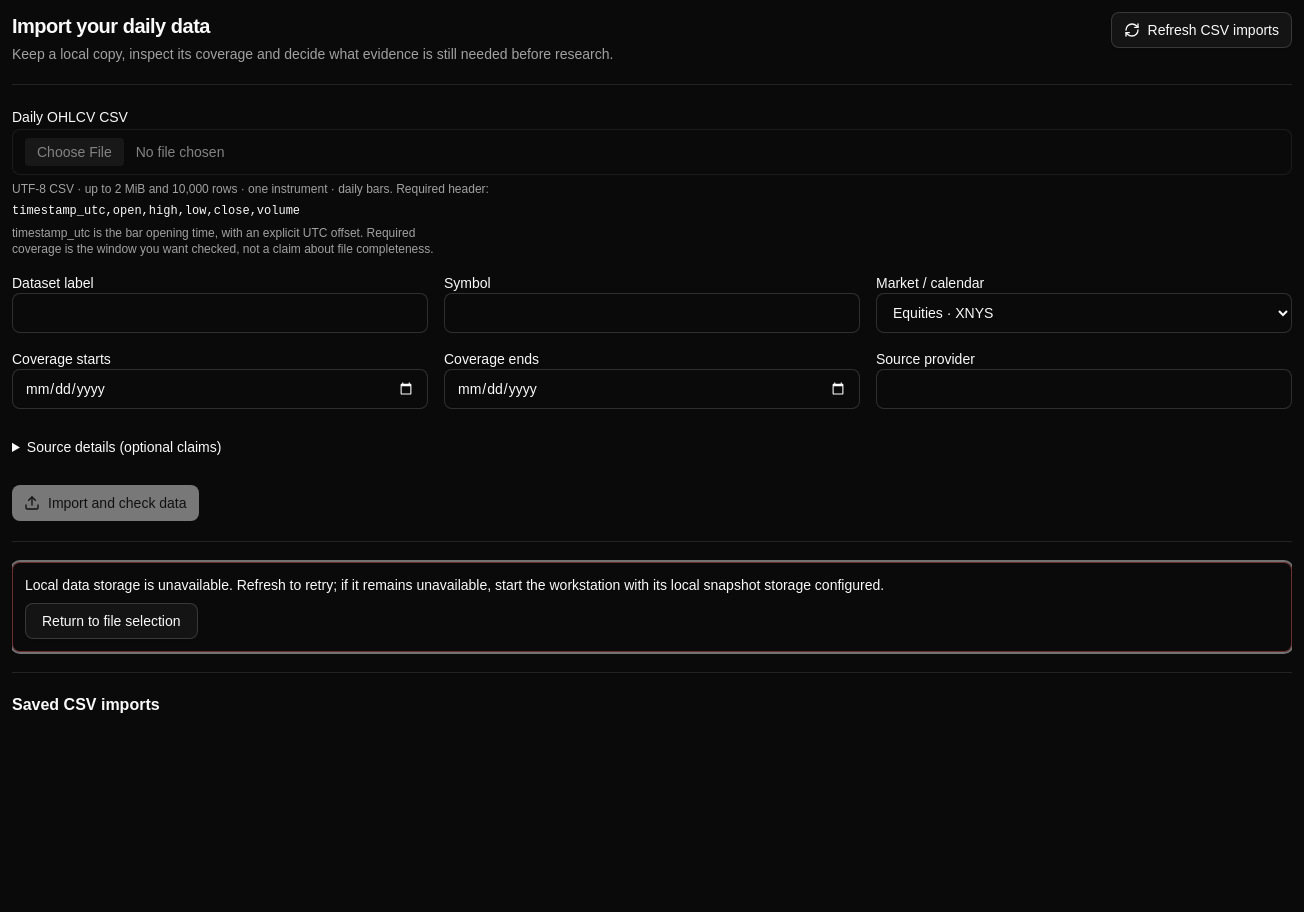
Test: makes an unavailable catalog retryable and does not pretend upload succeeded
Check: the message shows "Local data storage is unavailable", box [25,577,884,593]
Check: the button "Import and check data" is disabled, box [12,485,198,521]
Click the button "Refresh CSV imports": (1201, 30) [1110,12,1292,48]
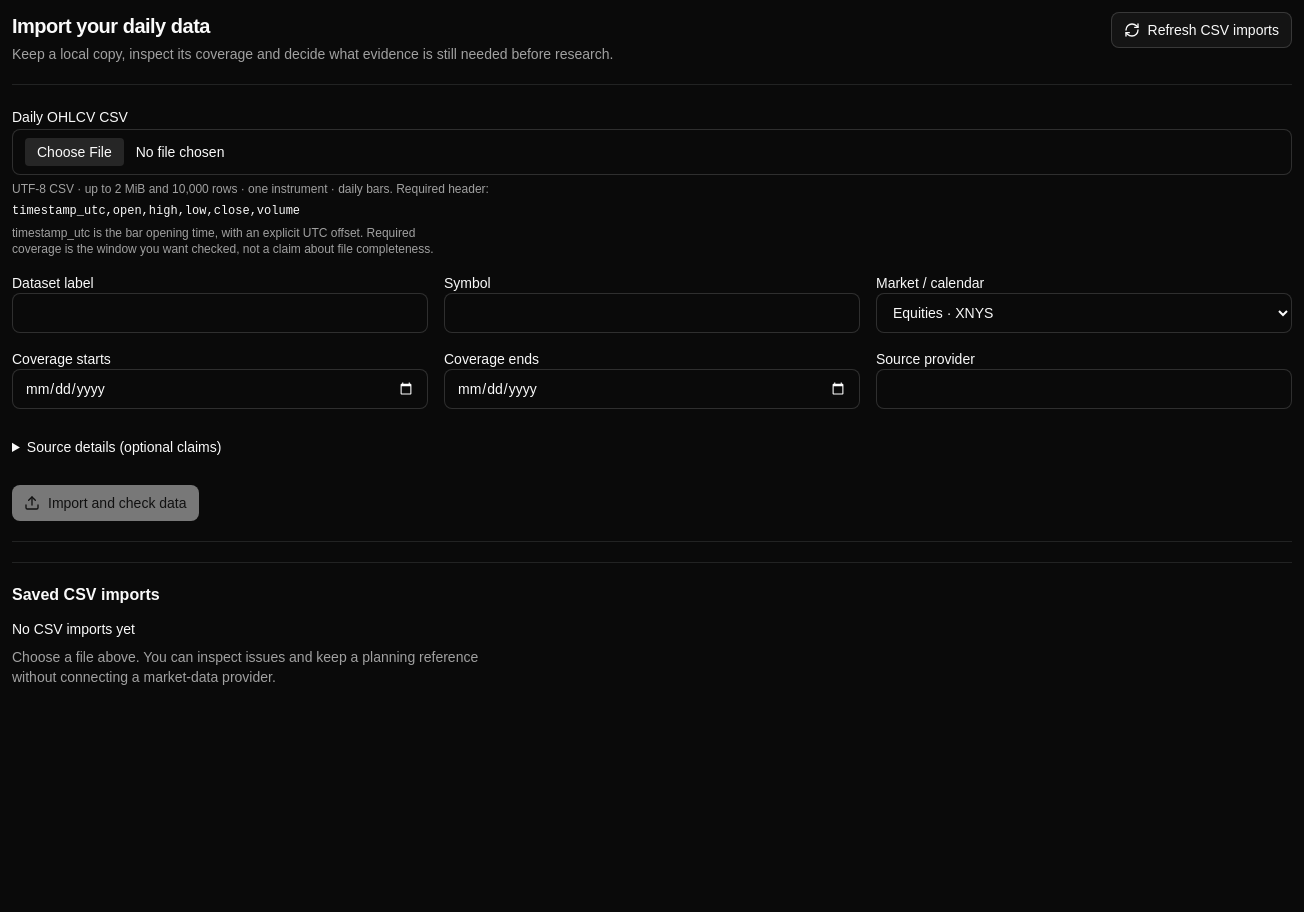
Check: the text "No CSV imports yet" is shown, box [12,621,135,637]
